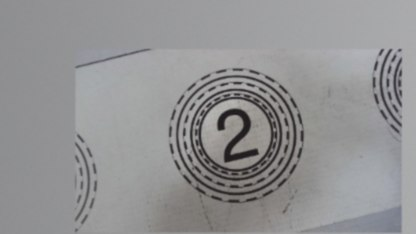2r: (166, 67, 305, 203)
